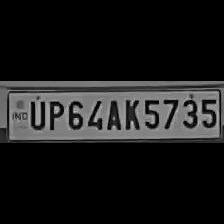3: (178, 96, 198, 130)
4: (84, 96, 104, 130)
5: (140, 96, 160, 130), (198, 94, 218, 128)
6: (64, 96, 84, 130)
7: (158, 96, 178, 130)
A: (102, 96, 122, 130)
K: (121, 96, 141, 130)
P: (44, 97, 64, 131)
U: (25, 96, 45, 130)
